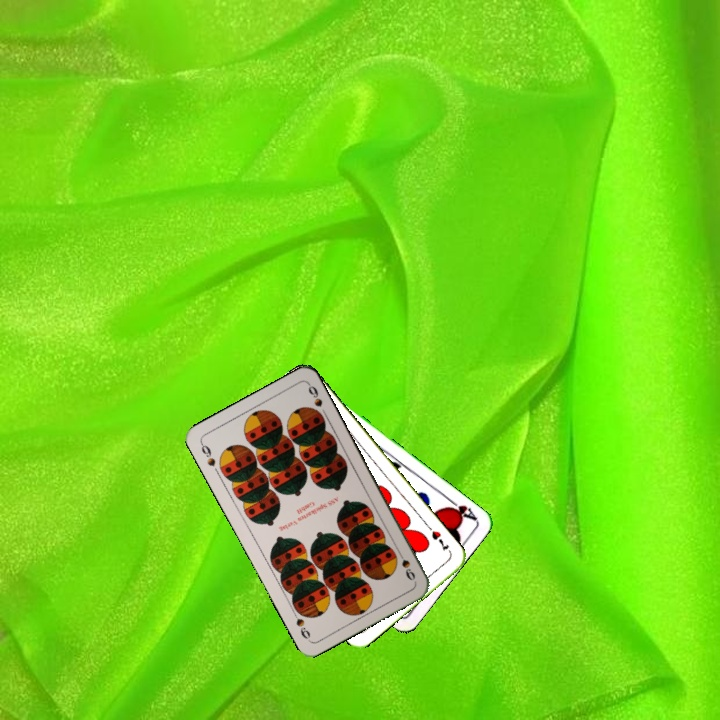H7: (427, 526, 452, 554)
HA: (442, 494, 479, 523)
S9: (394, 546, 418, 583), (197, 439, 218, 469)
